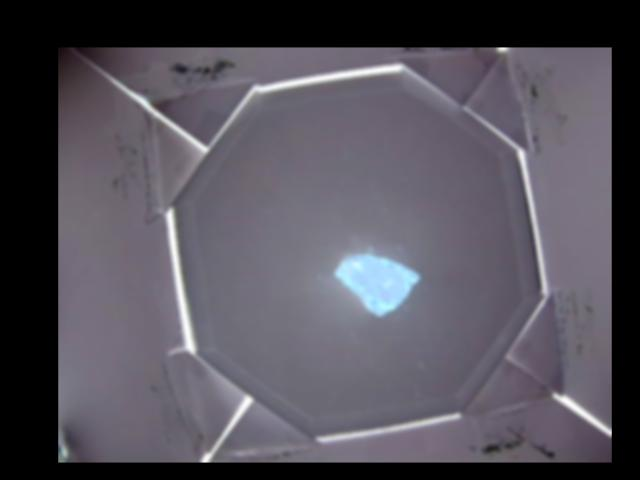Brisk: (335, 253, 422, 315)
